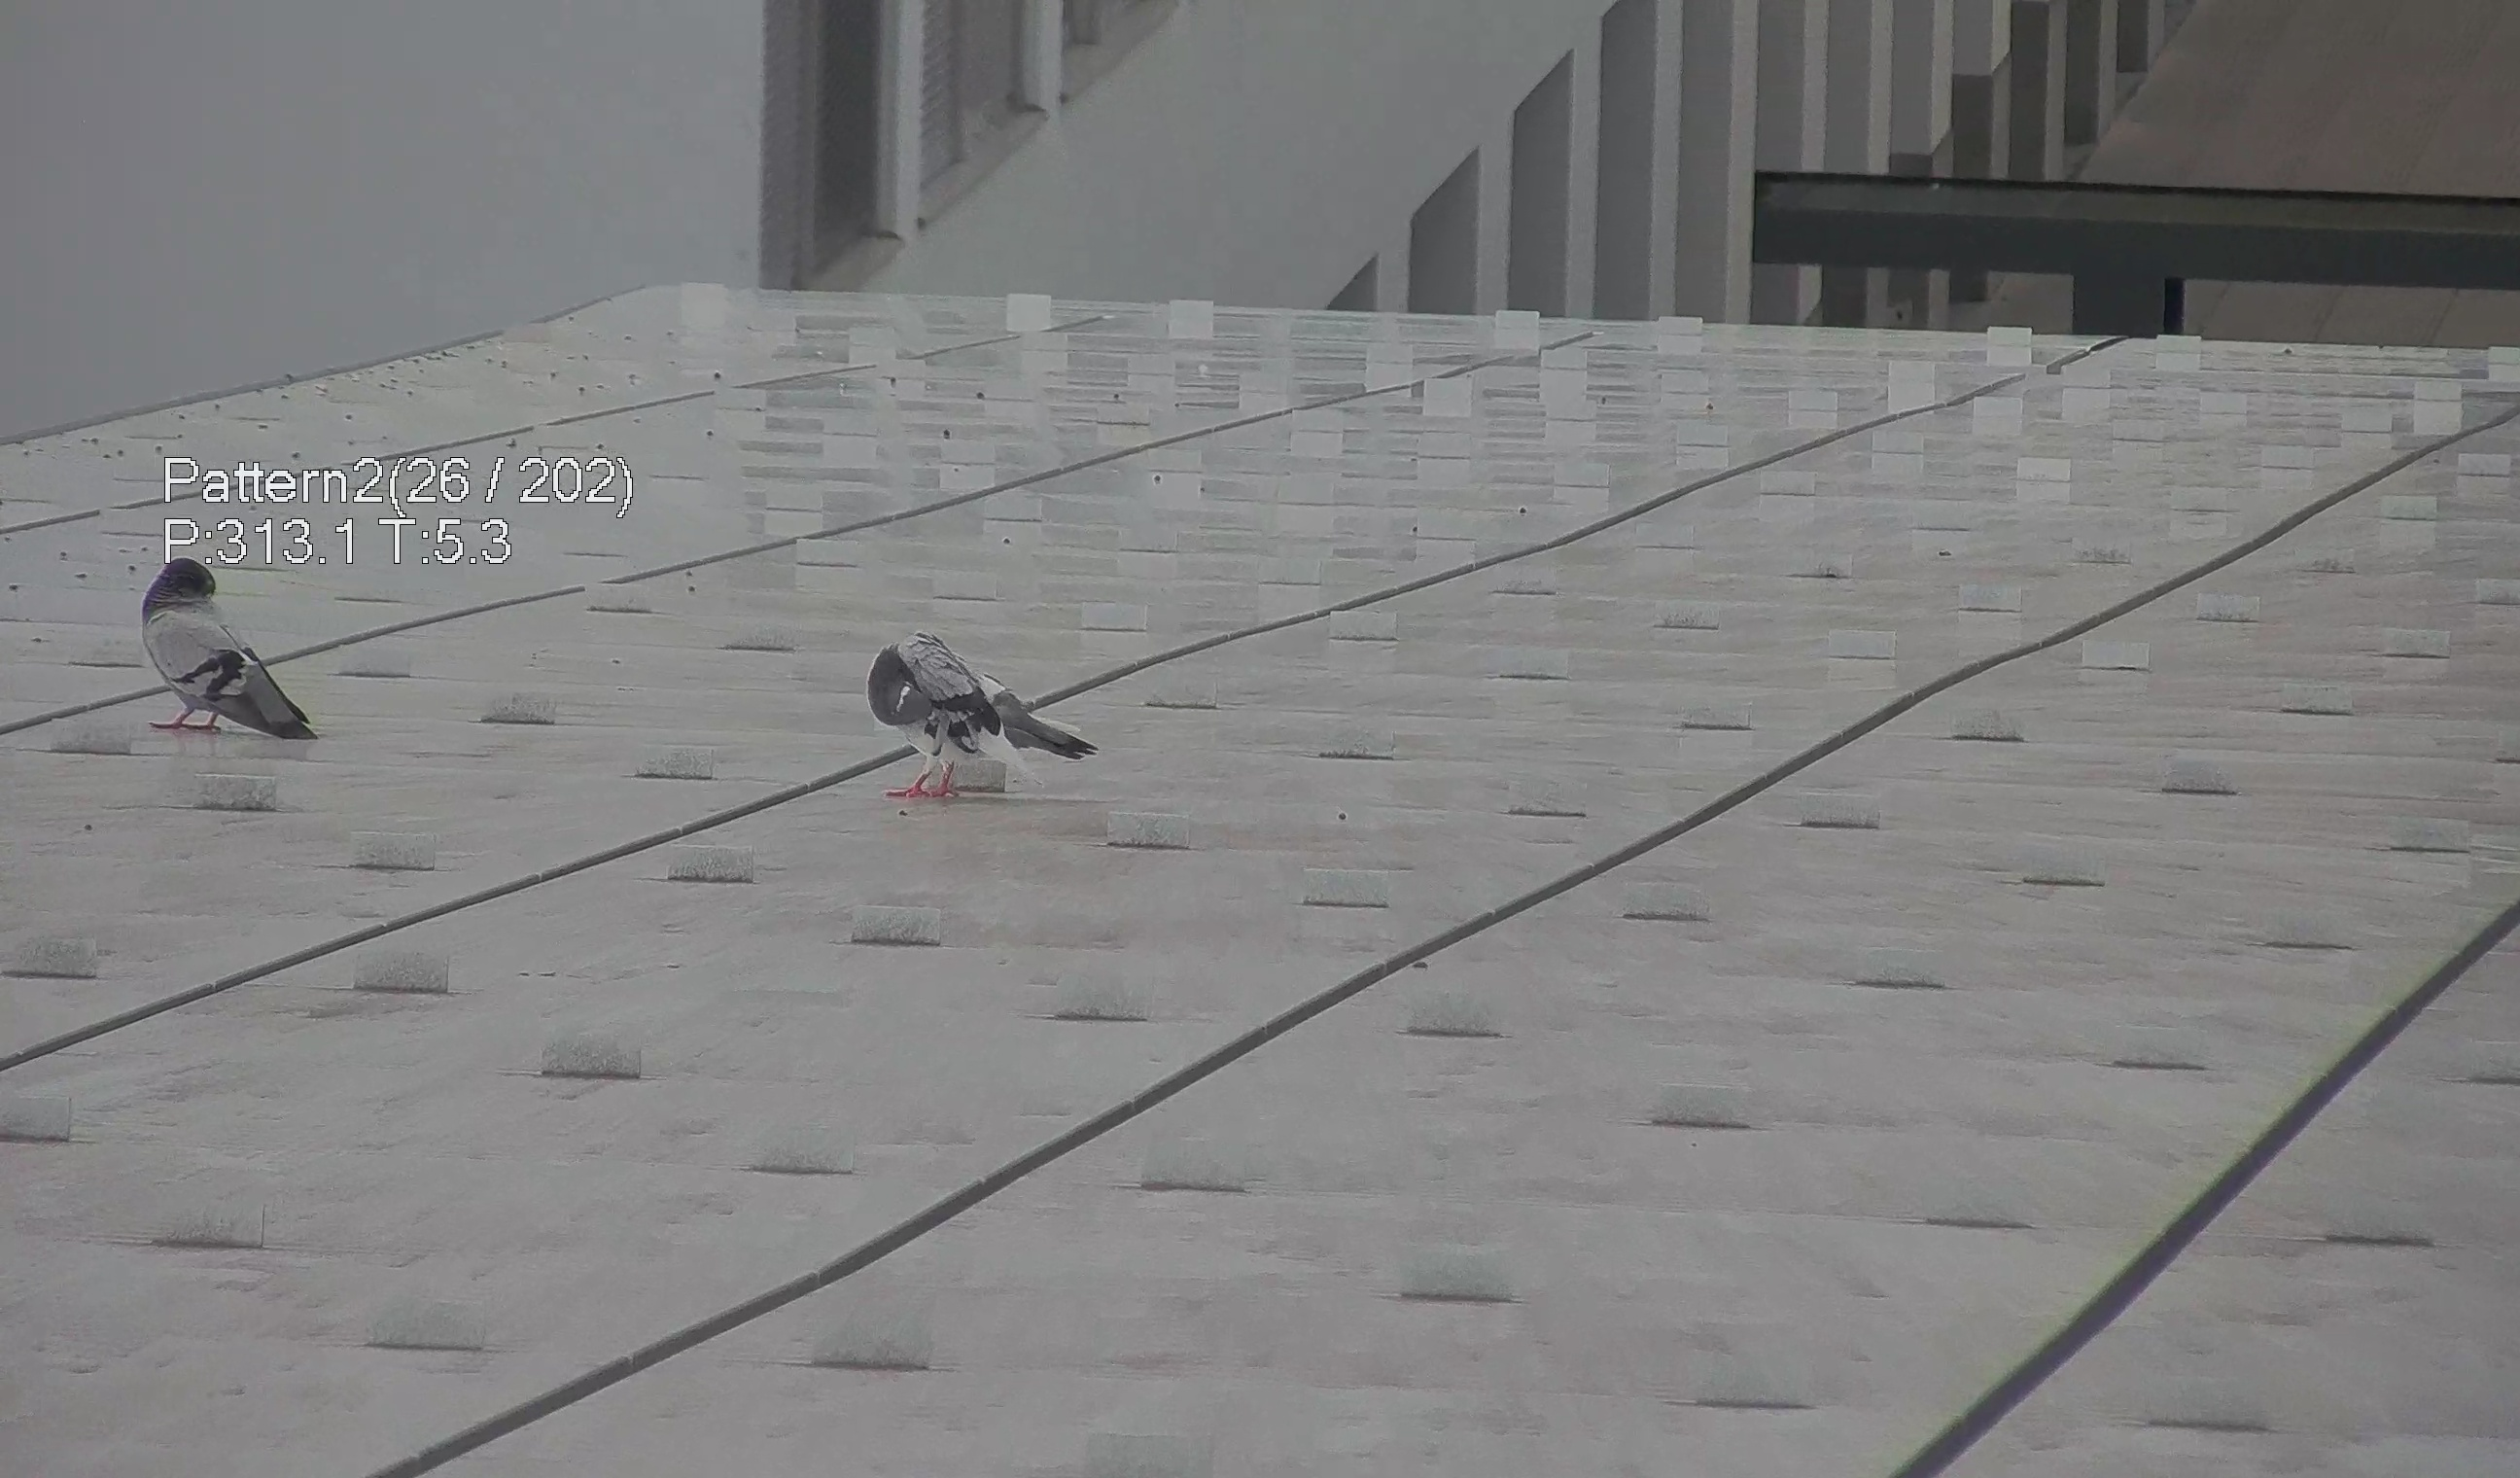Pigeon: (132, 533, 332, 765), (851, 614, 1092, 804)
